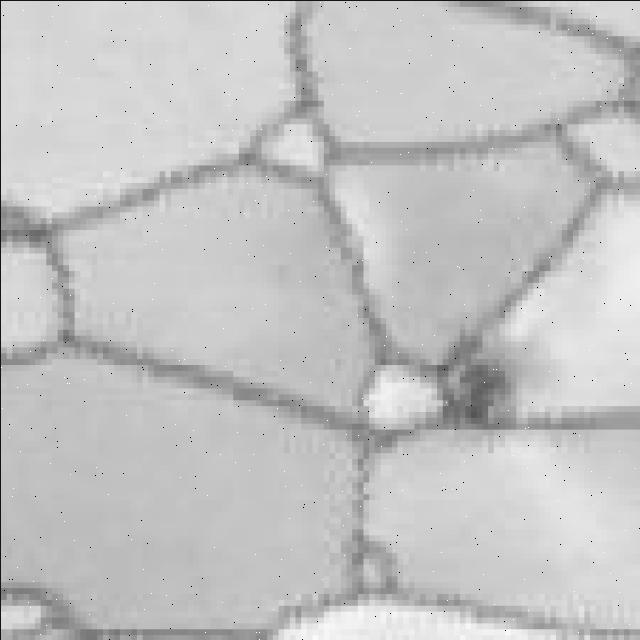good_void: (432, 317, 537, 436)
